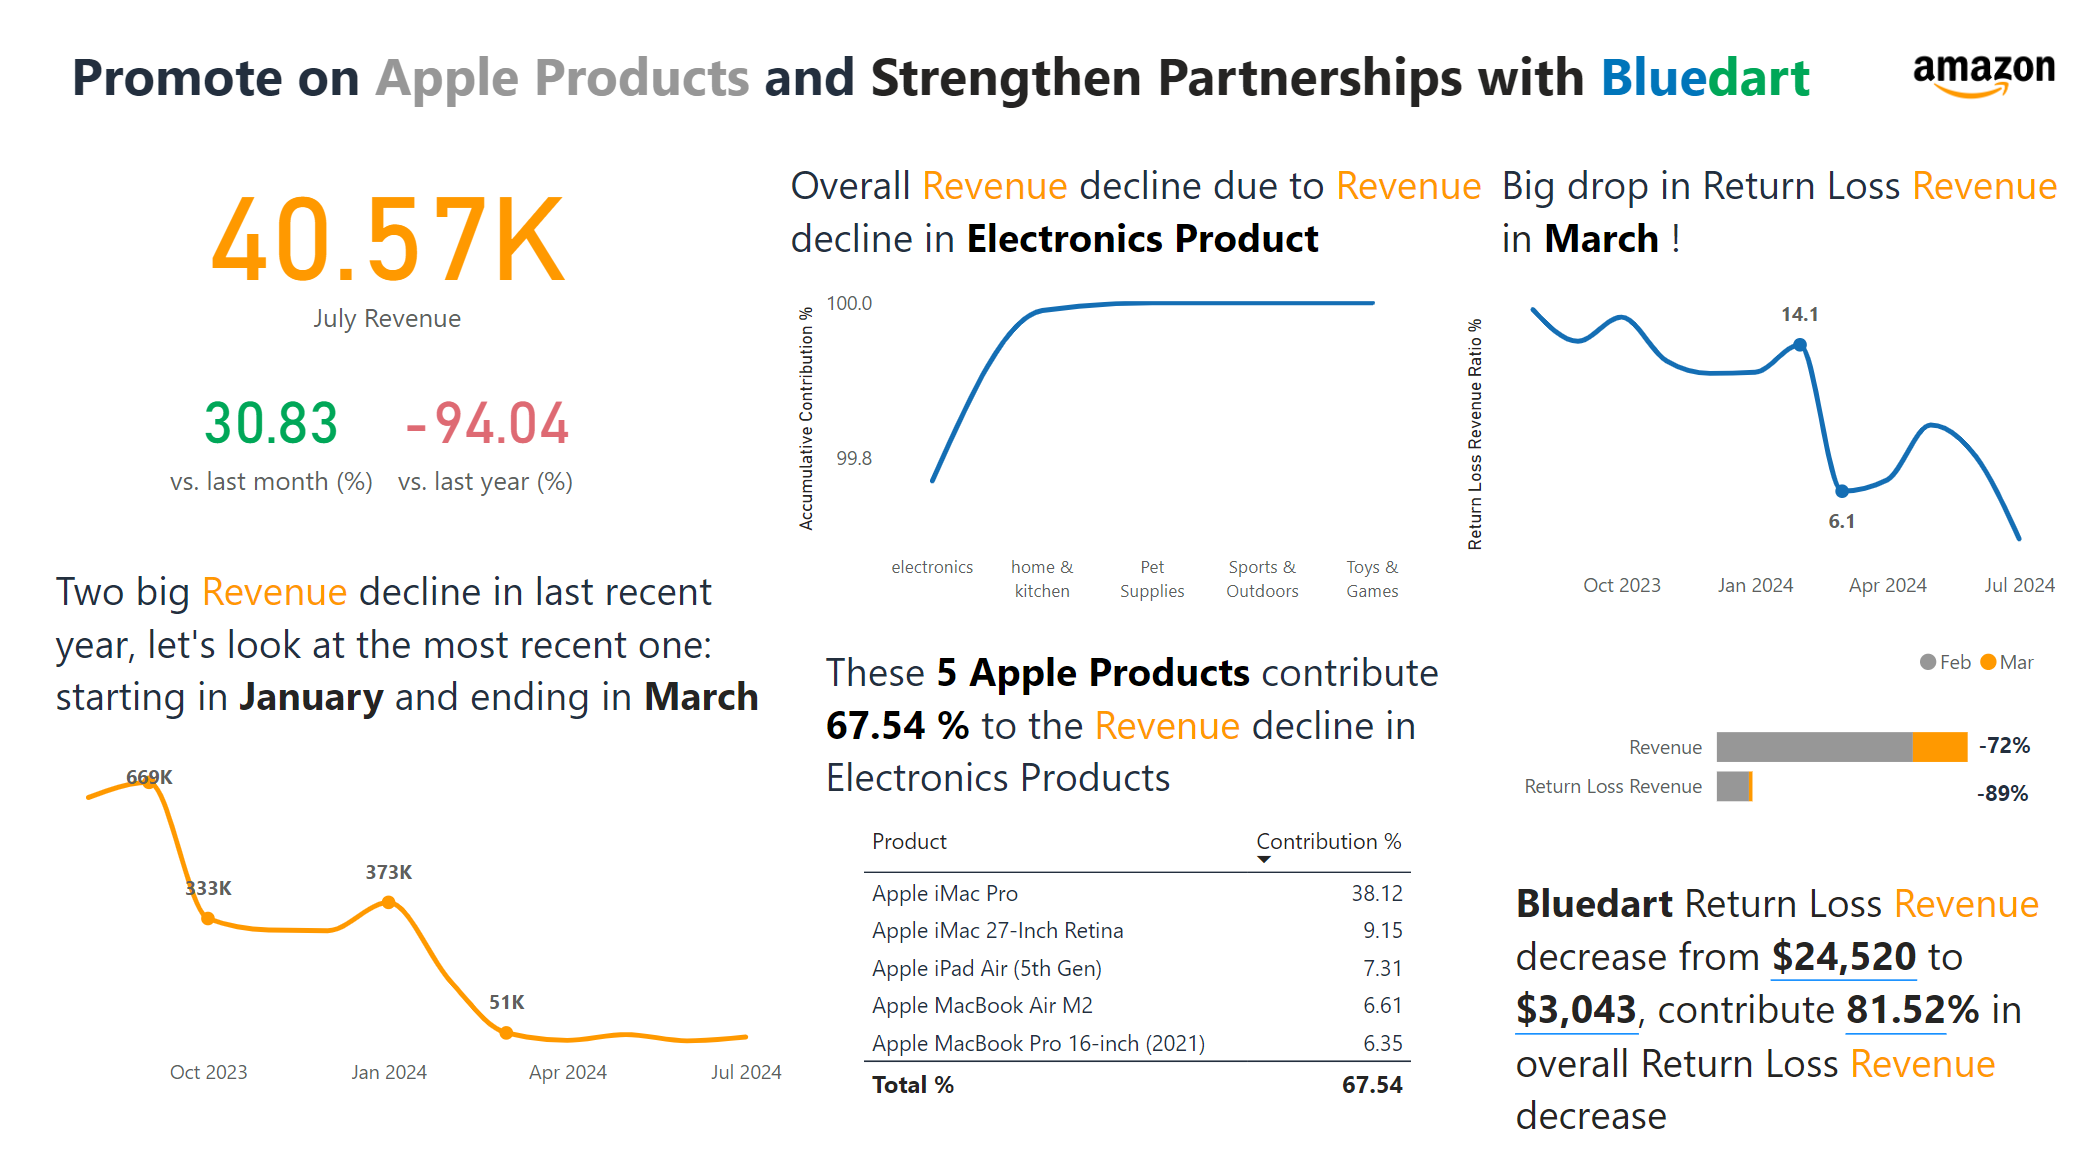

The page's visual inventory and layout, read from the dashboard file:
{"tool":"powerbi","page":{"name":"Page 1","canvas":[1280,720],"ordinal":0},"visuals":[{"type":"card","fields":{"Values":["Sum(1 current month sales.total_sales)"]},"box":[105.2,85.1,266.1,128.7],"z":0},{"type":"card","fields":{"Values":["Min(2 MoM change.mom_change_percentage)"]},"box":[95.2,224.2,143.1,90.9],"z":1000},{"type":"card","fields":{"Values":["Sum(3 YoY change.yoy_change_percentage)"]},"box":[238.1,224.1,119.8,91.1],"z":2000},{"type":"lineChart","fields":{"Y":["Sum(4 Sales trend.current_month_sales)","Sum(4 Sales trend.Data Lable)"],"Category":["4 Sales trend.order_month"]},"box":[25,462.2,460,218.2],"z":3000},{"type":"lineChart","fields":{"Category":["11  sales loss due to returned trend.order_month"],"Y":["Sum(11  sales loss due to returned trend.current_month_sales_loss_percentage)","Sum(11  sales loss due to returned trend.Marker label)"]},"box":[895.7,174.9,371.8,205.7],"z":4000},{"type":"barChart","fields":{"Category":["12 Successful sales vs Loss sales mom change.success_tag"],"Y":["Sum(12 Successful sales vs Loss sales mom change.feb_sales)","Sum(12 Successful sales vs Loss sales mom change.march_sales)"]},"box":[922.9,390.2,336.5,133],"z":5000},{"type":"textbox","box":[28.7,21.3,1115.4,58.8],"z":6000},{"type":"textbox","box":[28.7,343.9,451.9,118.3],"z":7000},{"type":"lineChart","fields":{"Category":["7 2024-01 vs 2024-03 catecory sales.category_name"],"Y":["Sum(7 2024-01 vs 2024-03 catecory sales.acummulative_decline_contribution)"]},"box":[485,174.9,394.6,205.7],"z":8000},{"type":"tableEx","fields":{"Values":["8 2024-01 vs 2024-03 product sales.product_name","Sum(8 2024-01 vs 2024-03 product sales.decline_contribution_percentage)"]},"box":[524.6,502.6,347.6,185.2],"z":9000},{"type":"textbox","box":[480.4,94.6,442.3,80.5],"z":10000},{"type":"textbox","box":[501.9,393.8,393.8,108.7],"z":11000},{"type":"textbox","box":[917,94.8,363,76.4],"z":12000},{"type":"textbox","box":[1210.2,446.6,54.7,29.5],"z":13000},{"type":"textbox","box":[1209.2,476.1,55.8,29.4],"z":14000},{"type":"textbox","box":[925.8,535.7,341.6,173.2],"z":15000},{"type":"image","box":[1158,5.9,122,88.9],"z":16000}]}

Visuals, with their boxes in screenshot pixels (x1, y1, x2, y2), scaled from the page's 1280x720 canvas onto the 2077x1165 screenshot:
card - Sum(1 current month sales.total_sales): [left=171, top=138, right=602, bottom=346]
card - Min(2 MoM change.mom_change_percentage): [left=154, top=363, right=387, bottom=510]
card - Sum(3 YoY change.yoy_change_percentage): [left=386, top=363, right=581, bottom=510]
lineChart - Sum(4 Sales trend.current_month_sales) x Sum(4 Sales trend.Data Lable): [left=41, top=748, right=787, bottom=1101]
lineChart - 11  sales loss due to returned trend.order_month x Sum(11  sales loss due to returned trend.current_month_sales_loss_percentage): [left=1453, top=283, right=2057, bottom=616]
barChart - 12 Successful sales vs Loss sales mom change.success_tag x Sum(12 Successful sales vs Loss sales mom change.feb_sales): [left=1498, top=631, right=2044, bottom=847]
textbox: [left=47, top=34, right=1856, bottom=130]
textbox: [left=47, top=556, right=780, bottom=748]
lineChart - 7 2024-01 vs 2024-03 catecory sales.category_name x Sum(7 2024-01 vs 2024-03 catecory sales.acummulative_decline_contribution): [left=787, top=283, right=1427, bottom=616]
tableEx - 8 2024-01 vs 2024-03 product sales.product_name x Sum(8 2024-01 vs 2024-03 product sales.decline_contribution_percentage): [left=851, top=813, right=1415, bottom=1113]
textbox: [left=780, top=153, right=1497, bottom=283]
textbox: [left=814, top=637, right=1453, bottom=813]
textbox: [left=1488, top=153, right=2076, bottom=277]
textbox: [left=1964, top=723, right=2052, bottom=770]
textbox: [left=1962, top=770, right=2053, bottom=818]
textbox: [left=1502, top=867, right=2057, bottom=1147]
image: [left=1879, top=10, right=2076, bottom=153]
